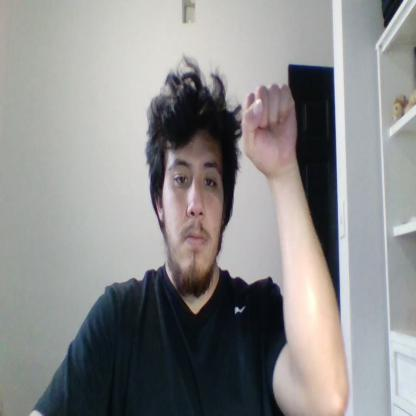S: (242, 82, 296, 173)
